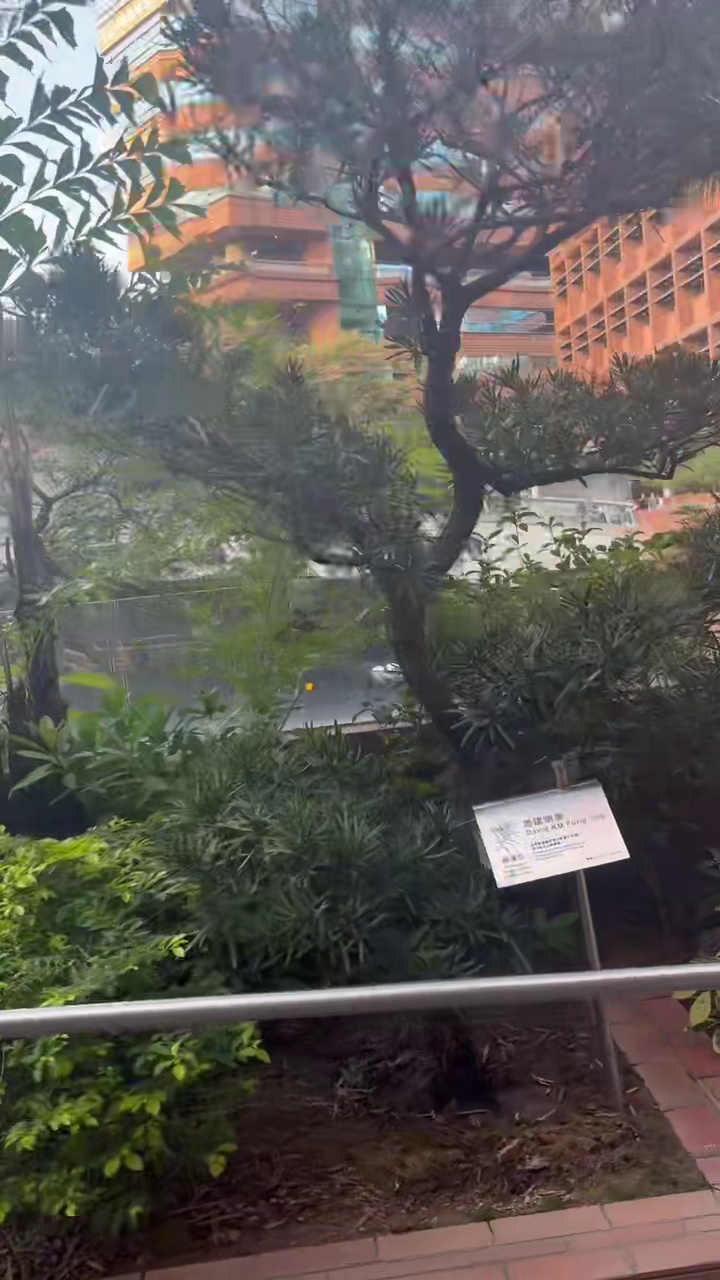Podocarpus macrophyllus: (146, 0, 719, 758)
